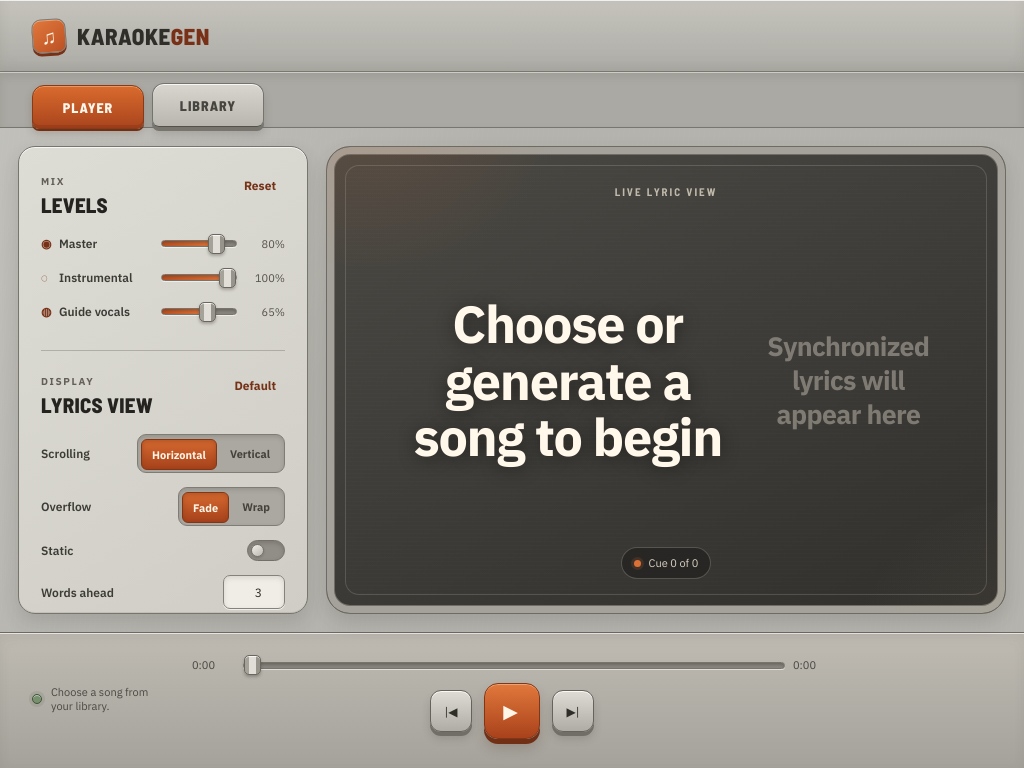
edits song metadata and updates the card
Click the tab "Library" at (208, 105), box left=152, top=83, right=264, bottom=127
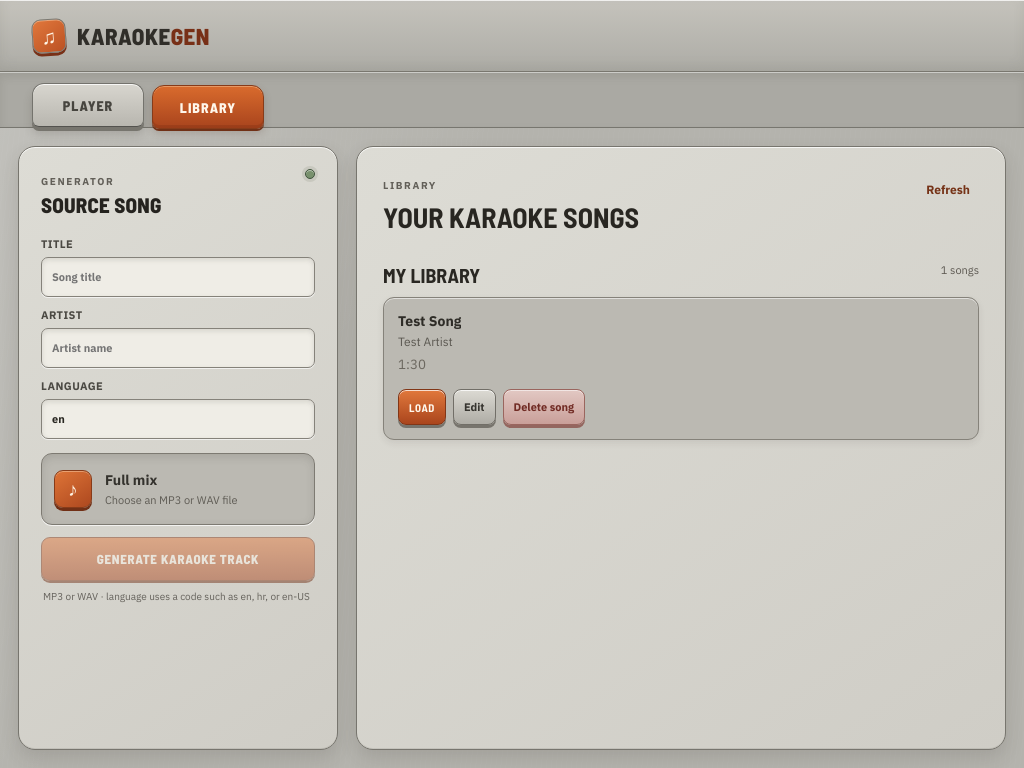
Click the button "Edit" at (474, 407), box left=453, top=389, right=496, bottom=425
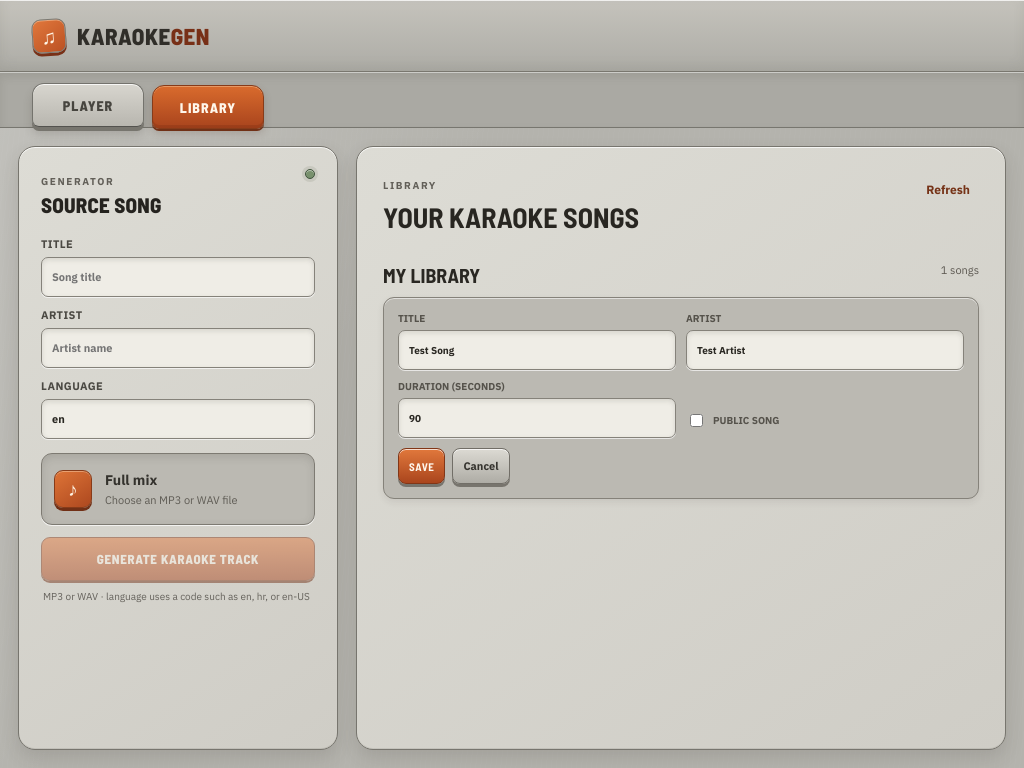
Replace the text in the field named "Title for Test Song" with "Updated Song" at (537, 350), box left=398, top=330, right=676, bottom=370
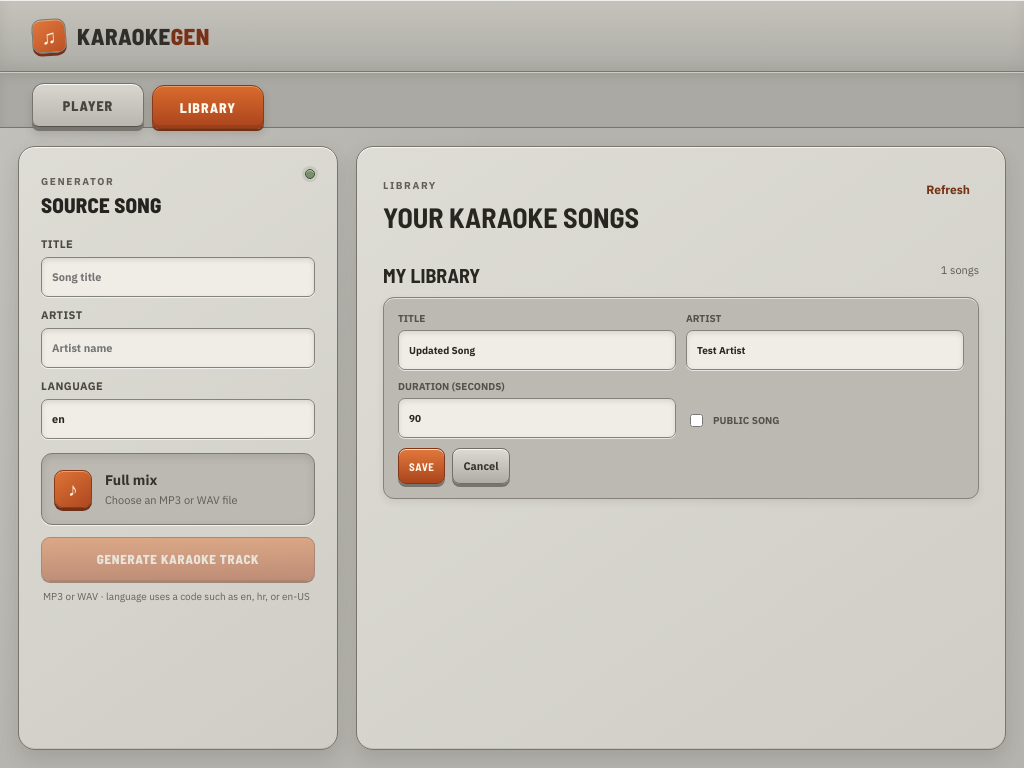
Click the button "Save" at (422, 466), box left=398, top=448, right=446, bottom=484
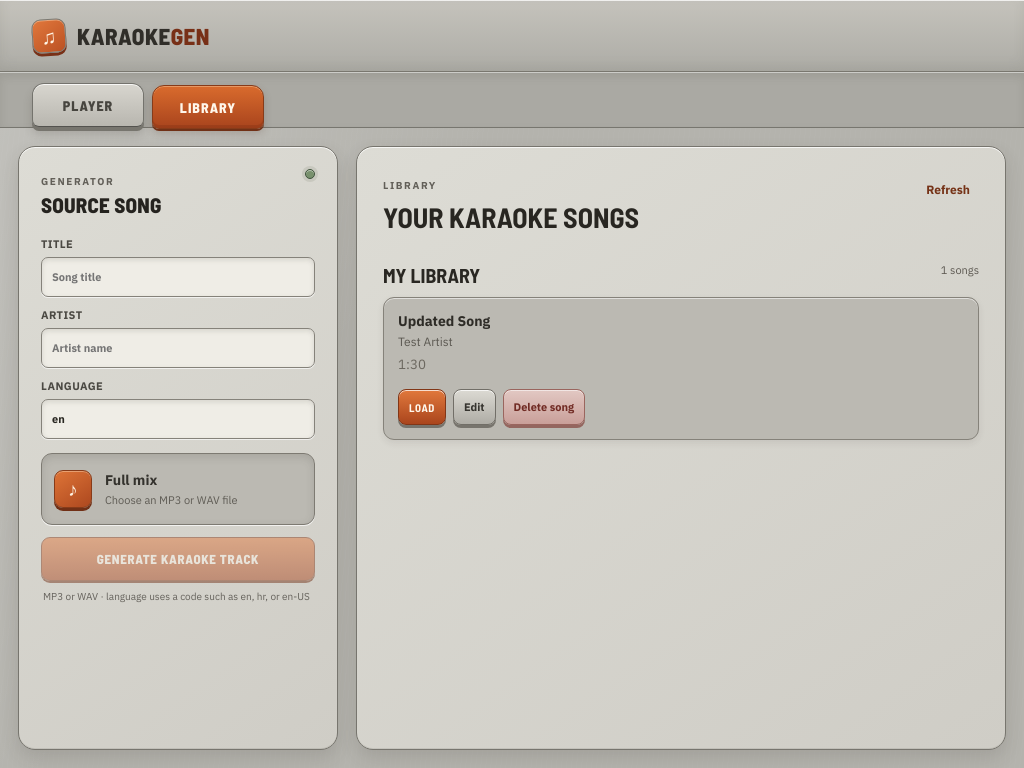
Now the heading "Updated Song" is shown, box left=398, top=312, right=490, bottom=330
